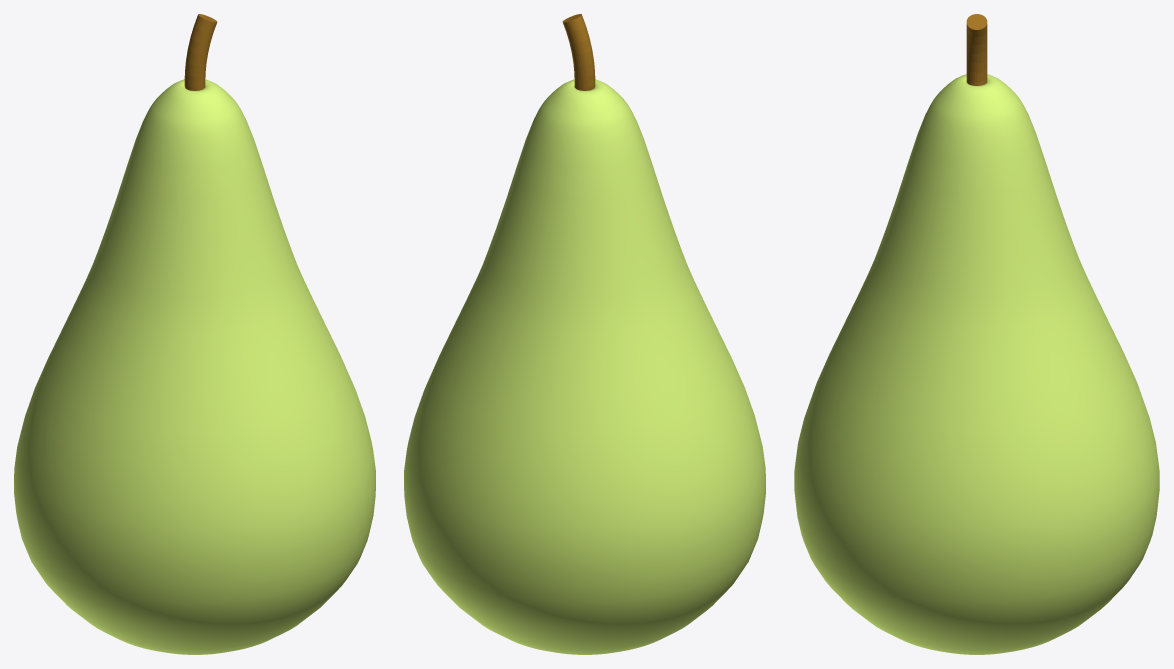
Rendered from pear.fbx.
3 views of the same model, side by side, from view 1: azimuth 30°, elevation 25°; view 2: azimuth 150°, elevation 25°; view 3: azimuth 270°, elevation 25° (orthographic).
Visible parts, largest first — view 1: 円柱, 円柱.001; view 2: 円柱, 円柱.001; view 3: 円柱, 円柱.001.
Boxes of the visible parts, x1,y1,x2,y2 form: 円柱: (14,79,375,654); 円柱.001: (184,14,217,90); 円柱: (404,79,765,654); 円柱.001: (562,14,595,90); 円柱: (794,74,1159,654); 円柱.001: (966,14,987,85).
Size of the model in its own units: 194 by 366 by 194.
